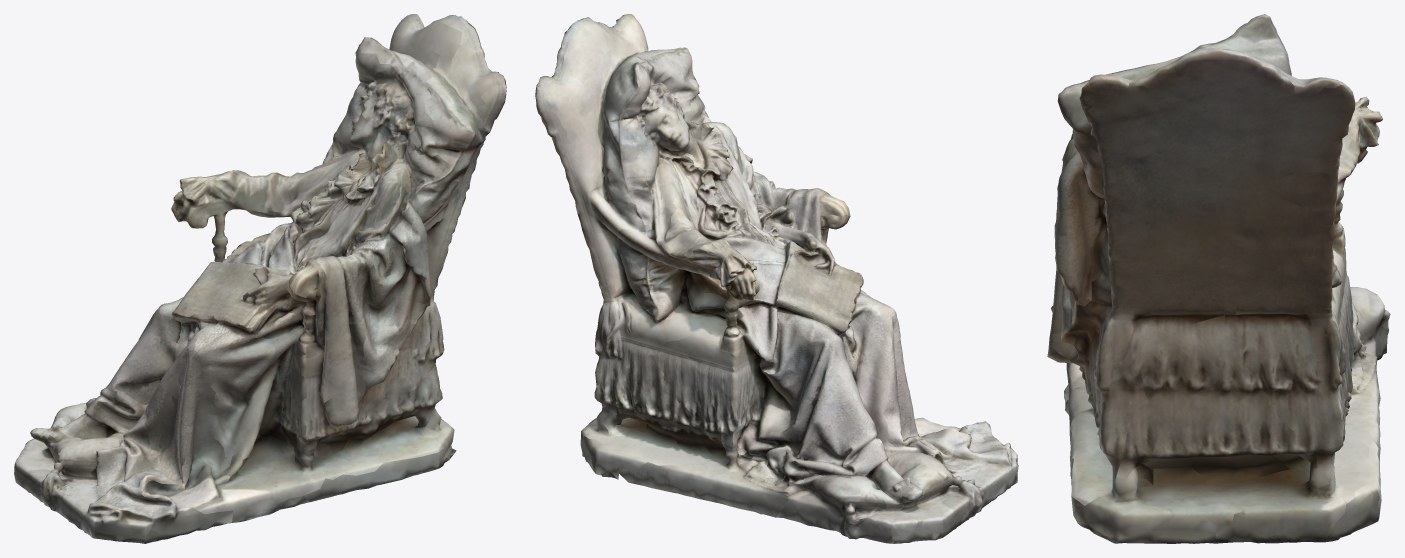
Rendered from Mozart_polissage.glb.
3 views of the same model, side by side, from view 1: azimuth 30°, elevation 25°; view 2: azimuth 150°, elevation 25°; view 3: azimuth 270°, elevation 25° (orthographic). The views are drawn at different scales.
Visible parts, largest first — view 1: Polissage.001; view 2: Polissage.001; view 3: Polissage.001.
Boxes of the visible parts, x1,y1,x2,y2 form: Polissage.001: [14, 14, 506, 543]; Polissage.001: [535, 14, 1018, 543]; Polissage.001: [1047, 14, 1390, 543].
Size of the model in its own units: 6.2 by 5.58 by 3.29.
1 material, 1 textured.
